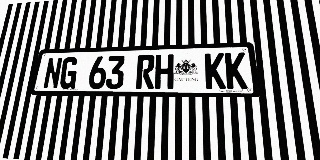3: (105, 56, 125, 89)
6: (88, 56, 108, 89)
G: (59, 57, 79, 89)
H: (154, 54, 174, 89)
K: (225, 52, 248, 89), (205, 53, 226, 89)
N: (42, 57, 63, 89)
R: (136, 55, 155, 89)
